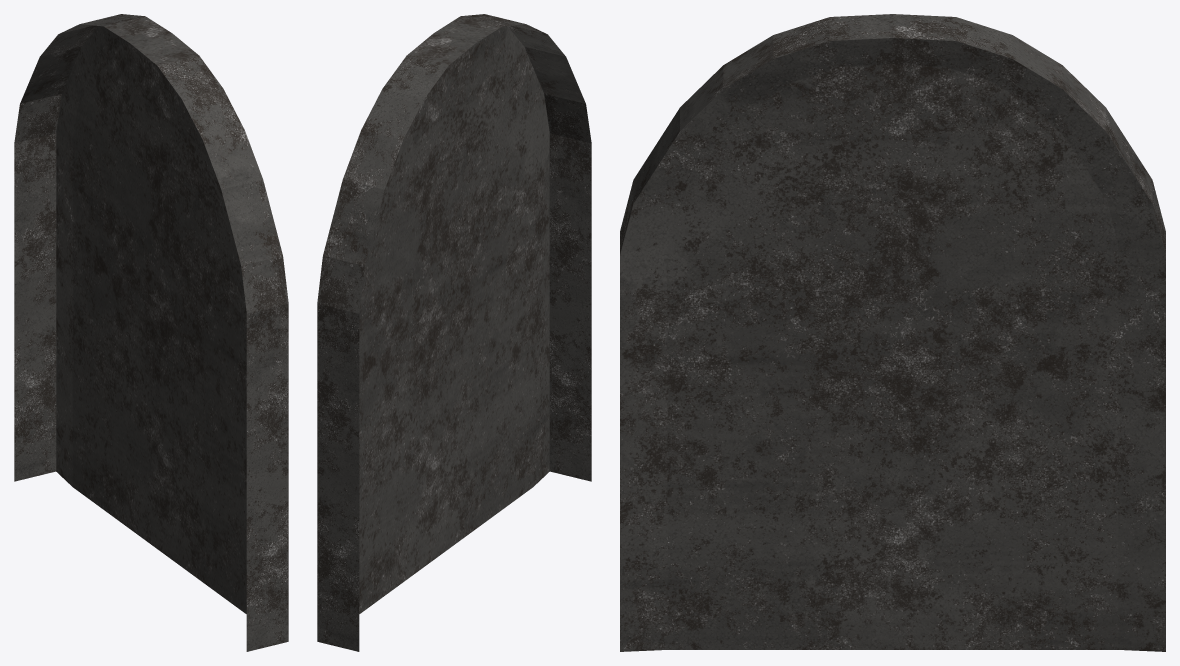
The model's file is Lápide.fbx.
The picture shows the model from 3 angles, left to right: view 1: azimuth 30°, elevation 25°; view 2: azimuth 150°, elevation 25°; view 3: azimuth 270°, elevation 25°; orthographic projection. The views are drawn at different scales.
Visible parts, largest first — view 1: Plane; view 2: Plane; view 3: Plane.
Part boxes in pixels (left/top/right/bottom): Plane: left=14, top=14, right=288, bottom=651; Plane: left=317, top=14, right=591, bottom=651; Plane: left=620, top=14, right=1165, bottom=651.
Size of the model in its own units: 10.09 by 120 by 96.92.
